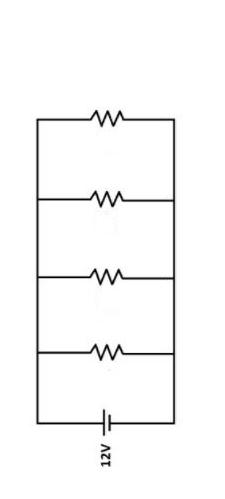resistor: (74, 174, 141, 220), (70, 245, 130, 294), (74, 329, 140, 372), (72, 98, 137, 132)
